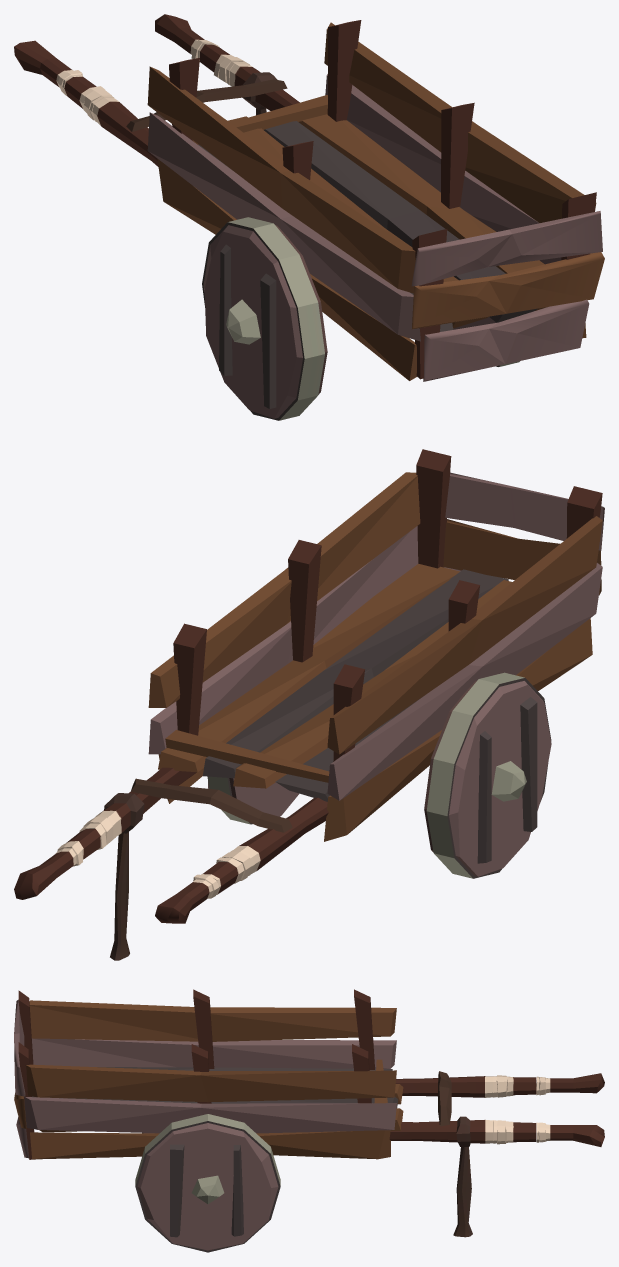
File: SM_L_Wagon.fbx
The picture shows the model from 3 angles, top to bottom: view 1: azimuth 30°, elevation 25°; view 2: azimuth 150°, elevation 25°; view 3: azimuth 270°, elevation 25°; orthographic projection. The views are drawn at different scales.
Parts seen in each view (by area): view 1: SM_L_Wagon; view 2: SM_L_Wagon; view 3: SM_L_Wagon.
Part boxes in pixels (bbox=[...]): SM_L_Wagon: bbox=[14, 14, 604, 420]; SM_L_Wagon: bbox=[14, 449, 604, 960]; SM_L_Wagon: bbox=[14, 989, 604, 1252].
Size of the model in its own units: 116 by 103 by 289.
1 material, 1 textured.
